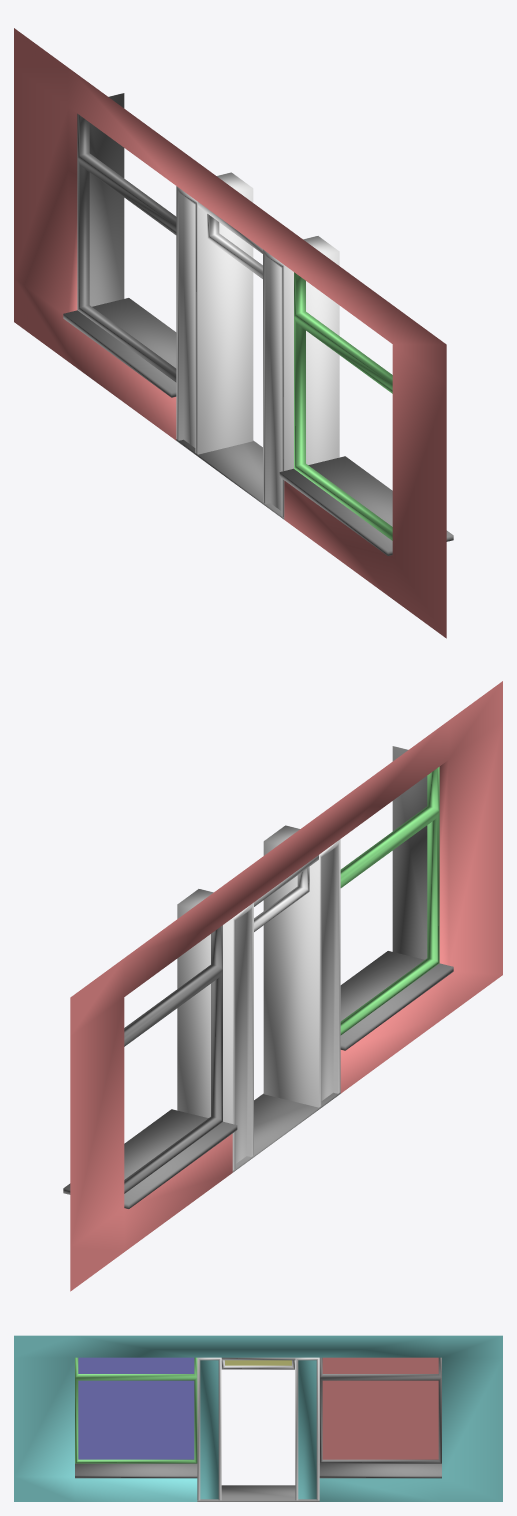
Rendered from SM_shopFront_01.gltf.
3 views of the same model, one above another, from view 1: azimuth 30°, elevation 25°; view 2: azimuth 150°, elevation 25°; view 3: azimuth 270°, elevation 25° (orthographic). The views are drawn at different scales.
Visible parts, largest first — view 1: SM_shopFront_01; view 2: SM_shopFront_01; view 3: SM_shopFront_01.
Boxes of the visible parts, x1,y1,x2,y2 form: SM_shopFront_01: (14,28,453,638); SM_shopFront_01: (63,681,502,1291); SM_shopFront_01: (14,1335,502,1501).
Bounding box in the file's own units: 0.7 × 3 × 8.
